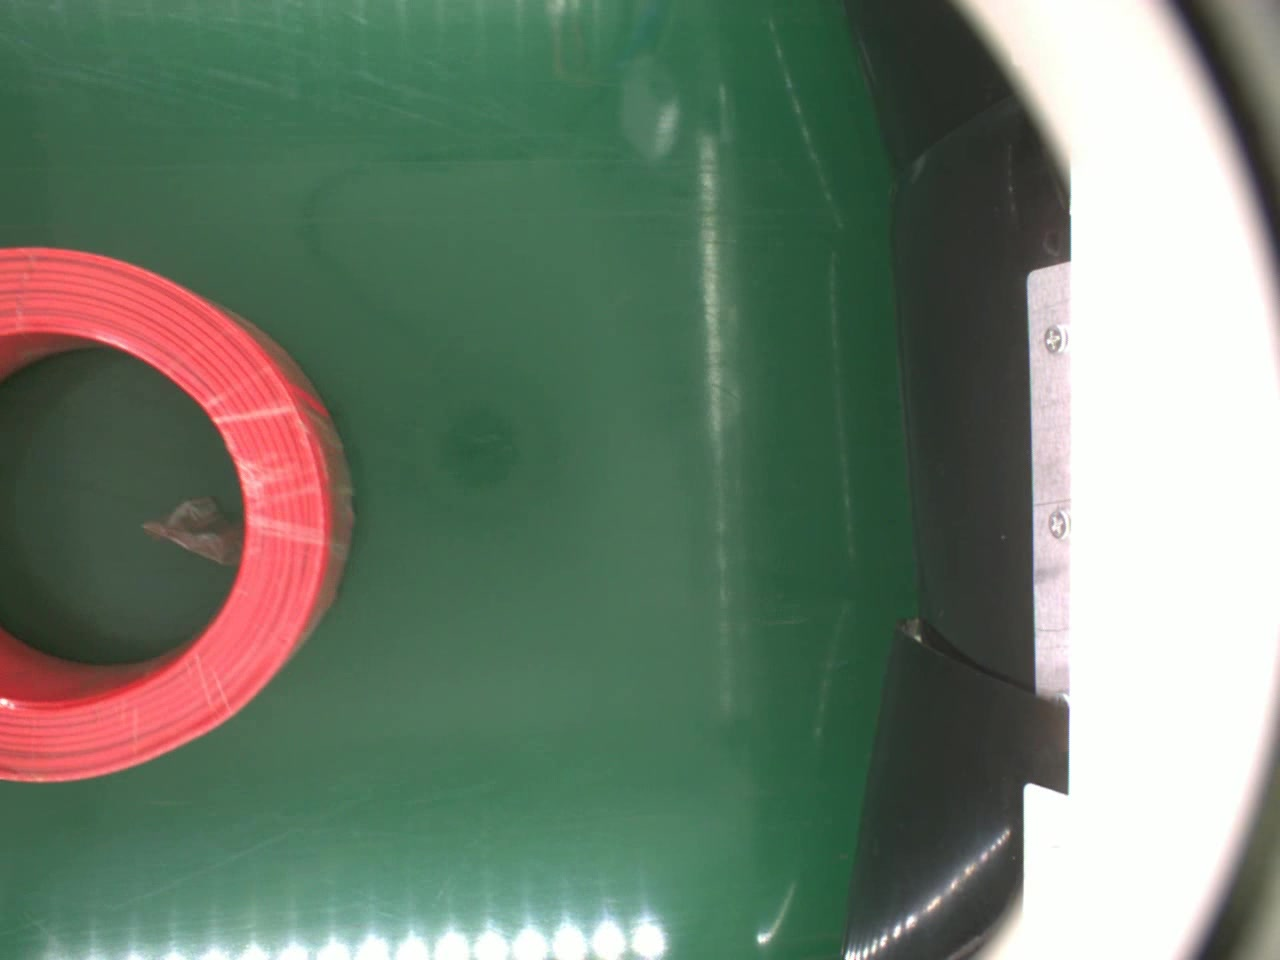red: (0, 242, 359, 788)
